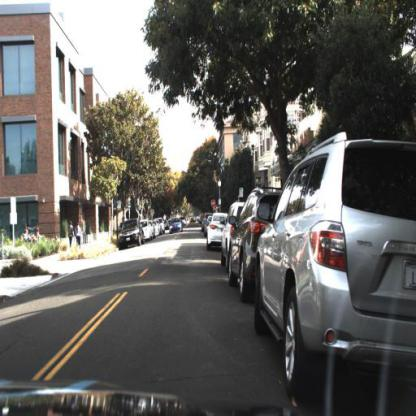car: (254, 128, 416, 396), (226, 184, 273, 297), (119, 215, 145, 251), (206, 211, 224, 249)
pedestrian: (66, 221, 76, 252), (75, 220, 83, 250)
